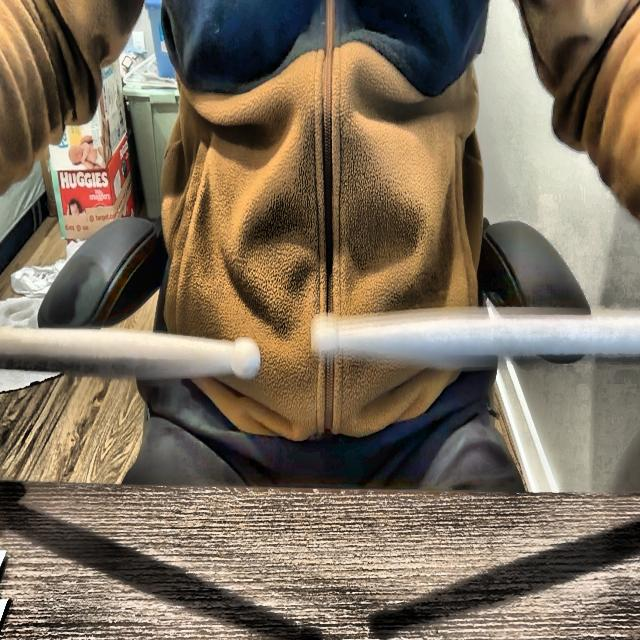Drumstick-Heads: (230, 327, 264, 386), (311, 313, 340, 366)
